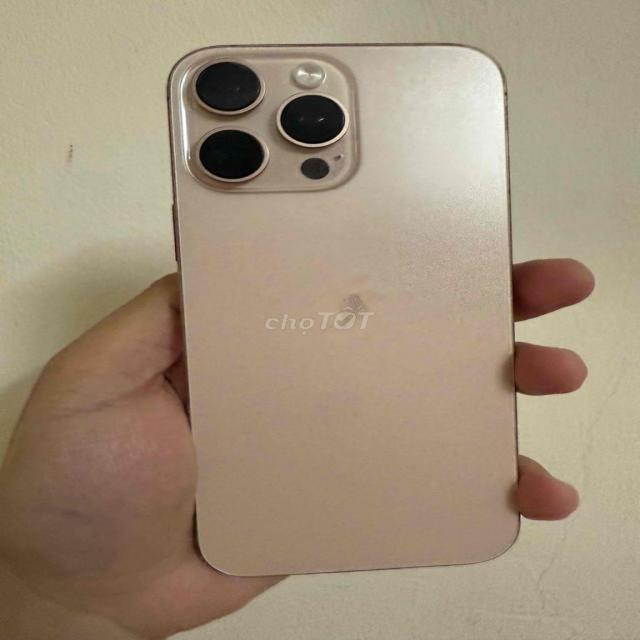gen_16: (154, 34, 556, 586)
